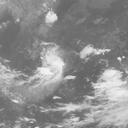cyclone: (29, 43, 73, 88)
